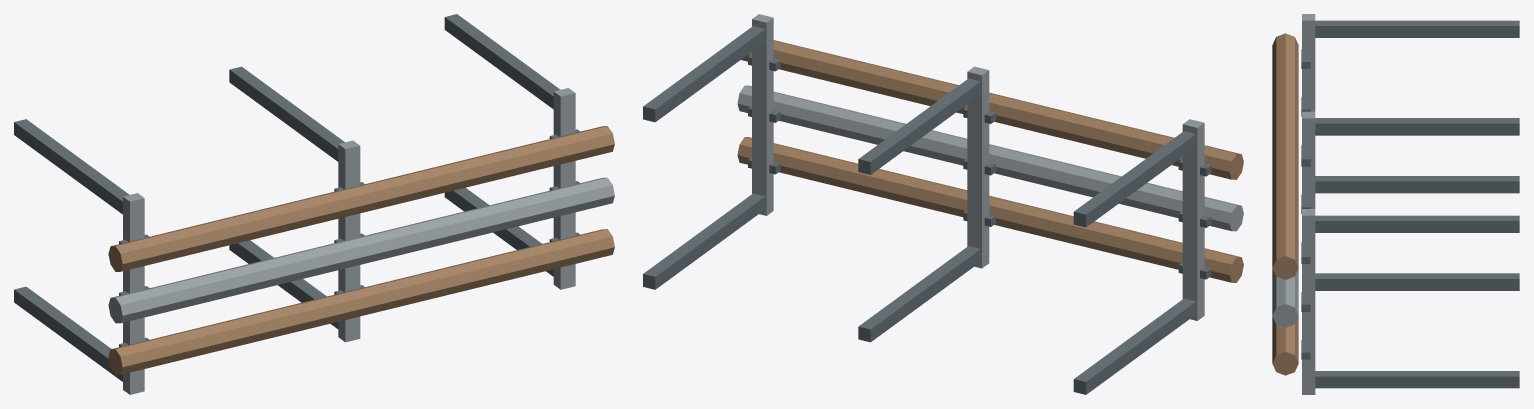
Rendered from powerquest_pipe_rack.glb.
3 renders of one model, left to right at view 1: azimuth 30°, elevation 25°; view 2: azimuth 150°, elevation 25°; view 3: azimuth 270°, elevation 25°, orthographic. The views are drawn at different scales.
Parts seen in each view (by area): view 1: pipe_rack_013, pipe_rack_017, pipe_rack_009, pipe_rack_004, pipe_rack_007, pipe_rack_001, pipe_rack_005, pipe_rack_008, pipe_rack_002, pipe_rack_000, pipe_rack_003, pipe_rack_006; view 2: pipe_rack_009, pipe_rack_017, pipe_rack_013, pipe_rack_005, pipe_rack_002, pipe_rack_008, pipe_rack_001, pipe_rack_000, pipe_rack_006, pipe_rack_007, pipe_rack_003, pipe_rack_004; view 3: pipe_rack_017, pipe_rack_000, pipe_rack_001, pipe_rack_003, pipe_rack_004, pipe_rack_006, pipe_rack_007, pipe_rack_008, pipe_rack_009, pipe_rack_013, pipe_rack_005, pipe_rack_002.
Part boxes in pixels (<box>): pipe_rack_013: <box>108,177,614,323</box>; pipe_rack_017: <box>108,126,614,271</box>; pipe_rack_009: <box>108,229,614,374</box>; pipe_rack_004: <box>229,66,344,161</box>; pipe_rack_007: <box>444,14,560,109</box>; pipe_rack_001: <box>14,119,129,214</box>; pipe_rack_005: <box>338,140,360,342</box>; pipe_rack_008: <box>553,88,575,289</box>; pipe_rack_002: <box>123,193,144,394</box>; pipe_rack_000: <box>14,286,122,381</box>; pipe_rack_003: <box>229,240,338,328</box>; pipe_rack_006: <box>444,187,553,276</box>; pipe_rack_009: <box>737,137,1243,282</box>; pipe_rack_017: <box>741,40,1243,179</box>; pipe_rack_013: <box>737,85,1243,231</box>; pipe_rack_005: <box>967,66,989,268</box>; pipe_rack_002: <box>1182,119,1204,320</box>; pipe_rack_008: <box>752,14,773,215</box>; pipe_rack_001: <box>1073,131,1196,227</box>; pipe_rack_000: <box>1073,298,1196,394</box>; pipe_rack_006: <box>643,193,765,289</box>; pipe_rack_007: <box>643,26,765,122</box>; pipe_rack_003: <box>858,246,980,342</box>; pipe_rack_004: <box>858,78,980,174</box>; pipe_rack_017: <box>1272,33,1298,279</box>; pipe_rack_000: <box>1315,176,1519,193</box>; pipe_rack_001: <box>1315,20,1519,37</box>; pipe_rack_003: <box>1315,273,1519,290</box>; pipe_rack_004: <box>1315,118,1519,135</box>; pipe_rack_006: <box>1315,371,1519,388</box>; pipe_rack_007: <box>1315,215,1519,232</box>; pipe_rack_008: <box>1302,209,1315,394</box>; pipe_rack_009: <box>1272,316,1298,375</box>; pipe_rack_013: <box>1272,268,1298,327</box>; pipe_rack_005: <box>1302,111,1315,208</box>; pipe_rack_002: <box>1302,14,1315,111</box>.
Bounding box in the file's own units: 8 × 3 × 3.75.
